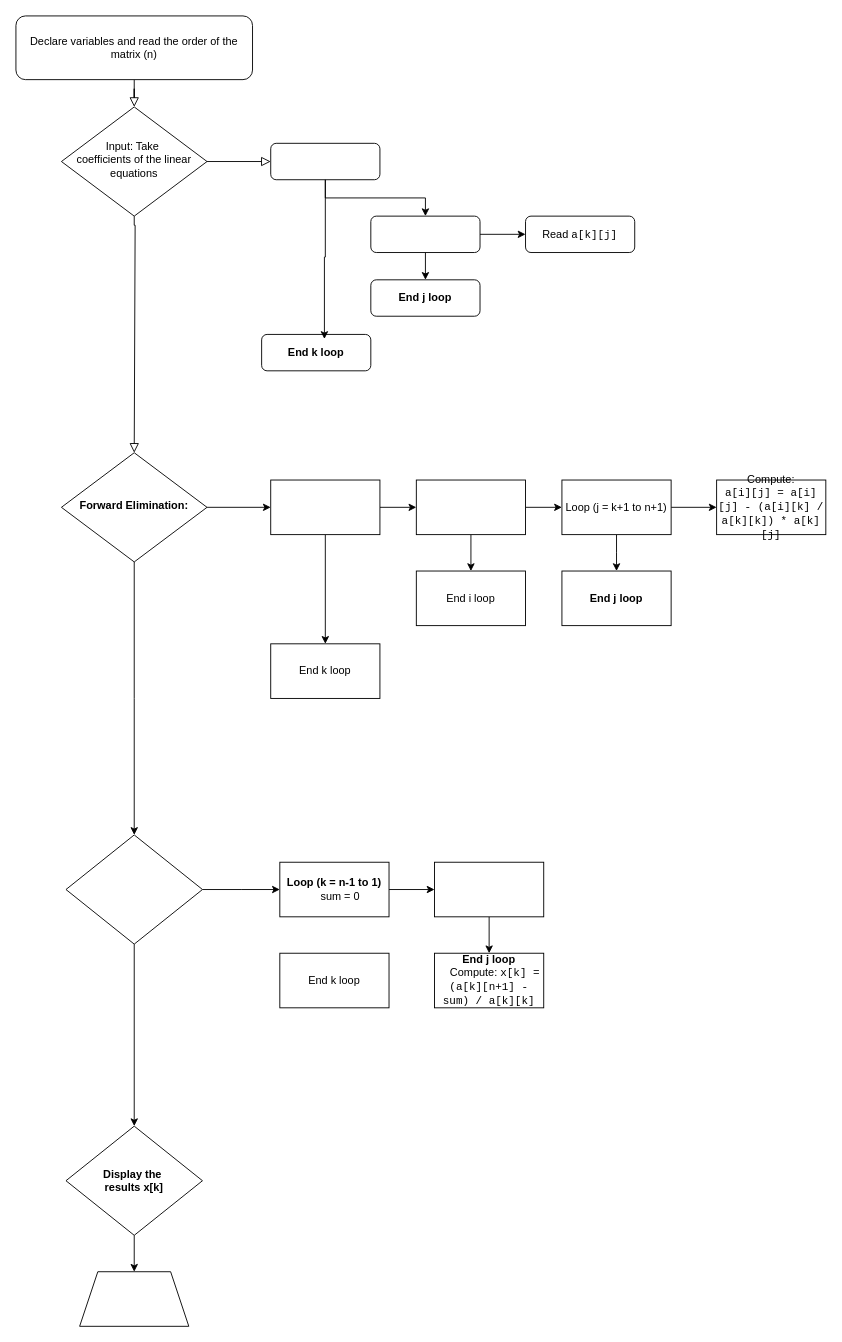
The diagram is 842 pixels wide and 1342 high, and some of its shapes have lost their labels. Here are the shapes that lost their labels. From the top down, the centre of each, then its label:
At [325,161]: "Loop (k = 1 to n)".
At [425,234]: "Loop (j = 1 to n+1)".
At [325,507]: "Loop (k = 1 to n-1)".
At [470,507]: "Loop (i = k+1 to n)".
At [133,889]: "Back Substitution: Compute x[n] = a[n][n+1] / a[n][n]".
At [489,889]: "Loop (j = k+1 to n) sum = sum + a[k][j] * x[j]".
At [134,1298]: "Stop".
